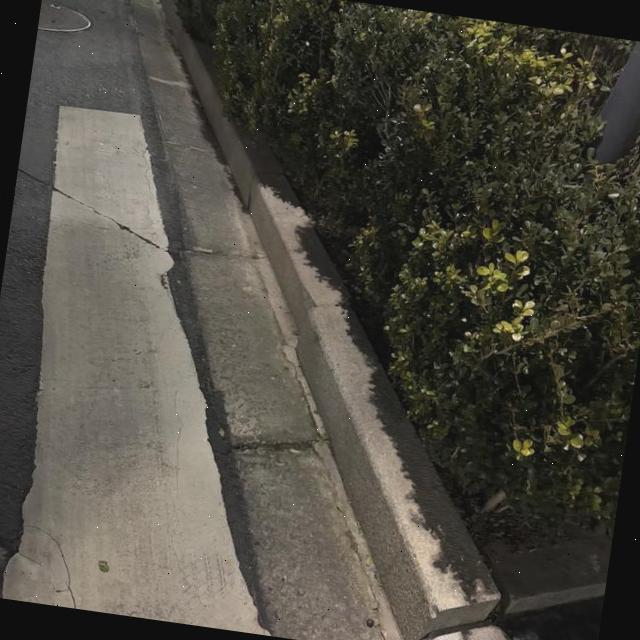curb: (188, 47, 500, 640), (157, 0, 258, 210)
